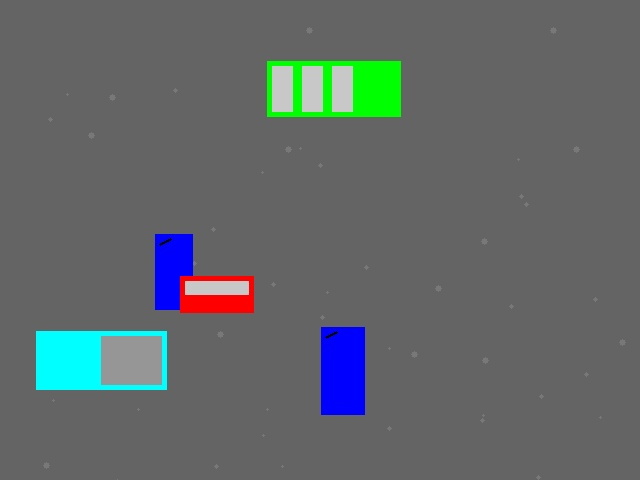bus: (267, 61, 400, 116)
car: (180, 276, 253, 312)
motorcycle: (321, 327, 364, 414), (155, 234, 192, 309)
truck: (36, 331, 166, 389)
